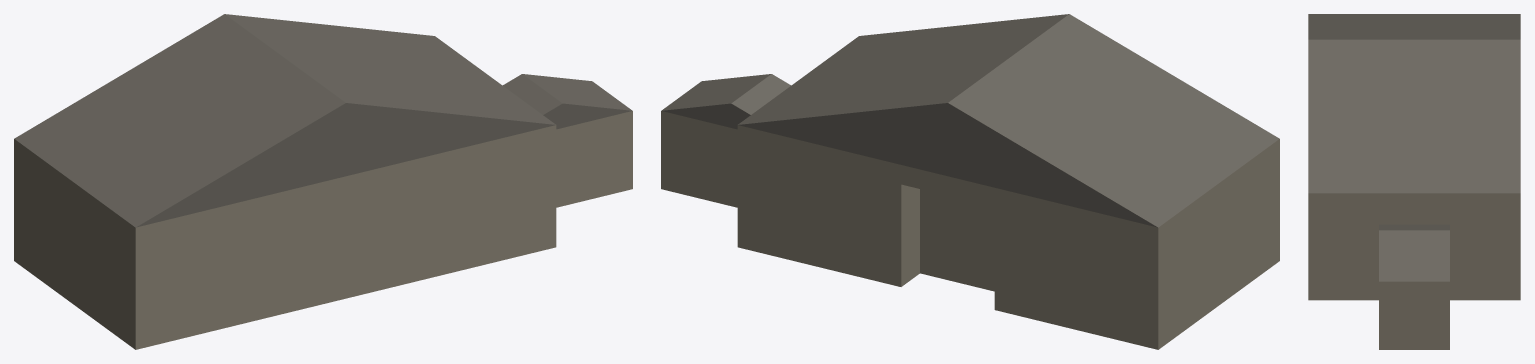
Rendered from d-gb-05-stone-barn.glb.
3 renders of one model, left to right at view 1: azimuth 30°, elevation 25°; view 2: azimuth 150°, elevation 25°; view 3: azimuth 270°, elevation 25°, orthographic. The views are drawn at different scales.
Parts seen in each view (by area): view 1: part0, part1, part2, part3; view 2: part1, part0, part2, part3; view 3: part1, part0, part2, part3.
Part boxes in pixels (x1,y1,x2,y2): part0: [14, 125, 556, 349]; part1: [14, 14, 555, 227]; part2: [556, 111, 632, 207]; part3: [503, 74, 632, 129]; part1: [738, 14, 1279, 227]; part0: [737, 125, 1279, 349]; part2: [661, 111, 737, 207]; part3: [661, 74, 790, 129]; part1: [1308, 14, 1520, 193]; part0: [1308, 193, 1520, 300]; part2: [1379, 281, 1449, 349]; part3: [1379, 224, 1449, 281].
Size of the model in its own units: 23000 by 8000 by 9000.
